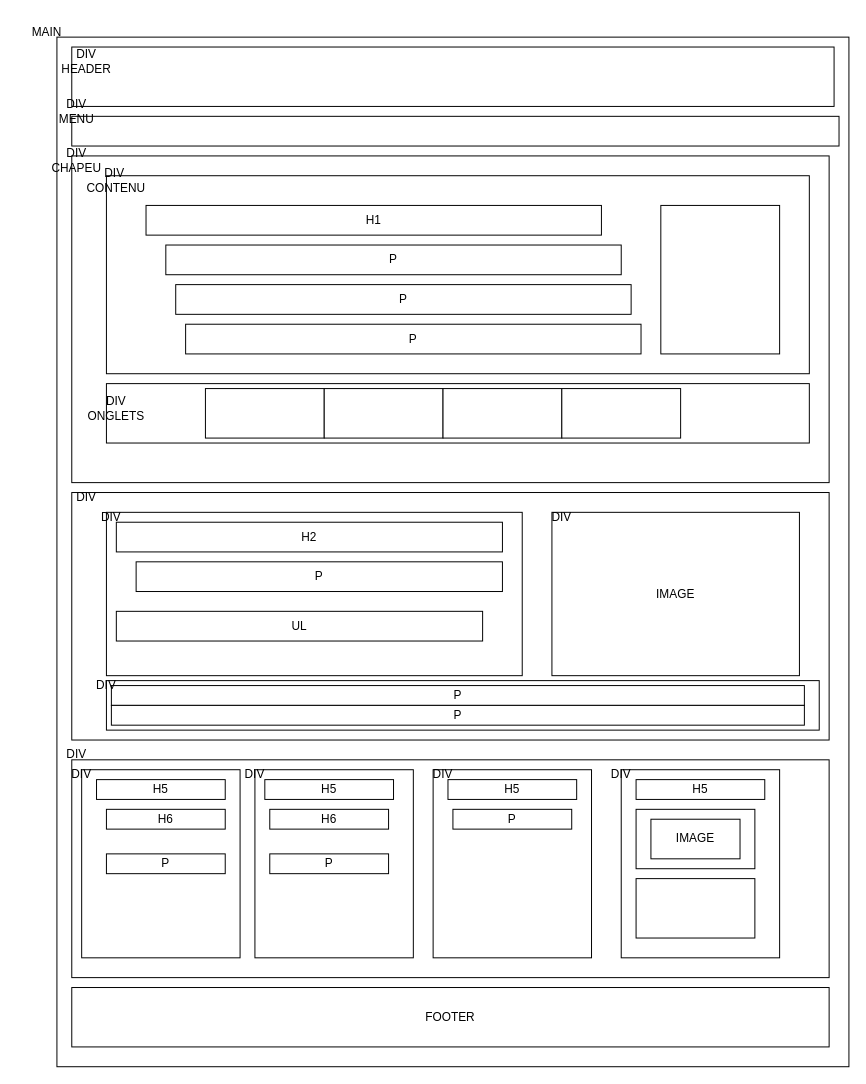
Image size: 866x1084. Some labels were removed from this diagram. Each missing label, with the centre of its shape:
"ADRESS" goes at point 695,908.
"IMAGE BACKGROUND" goes at point 720,279.
